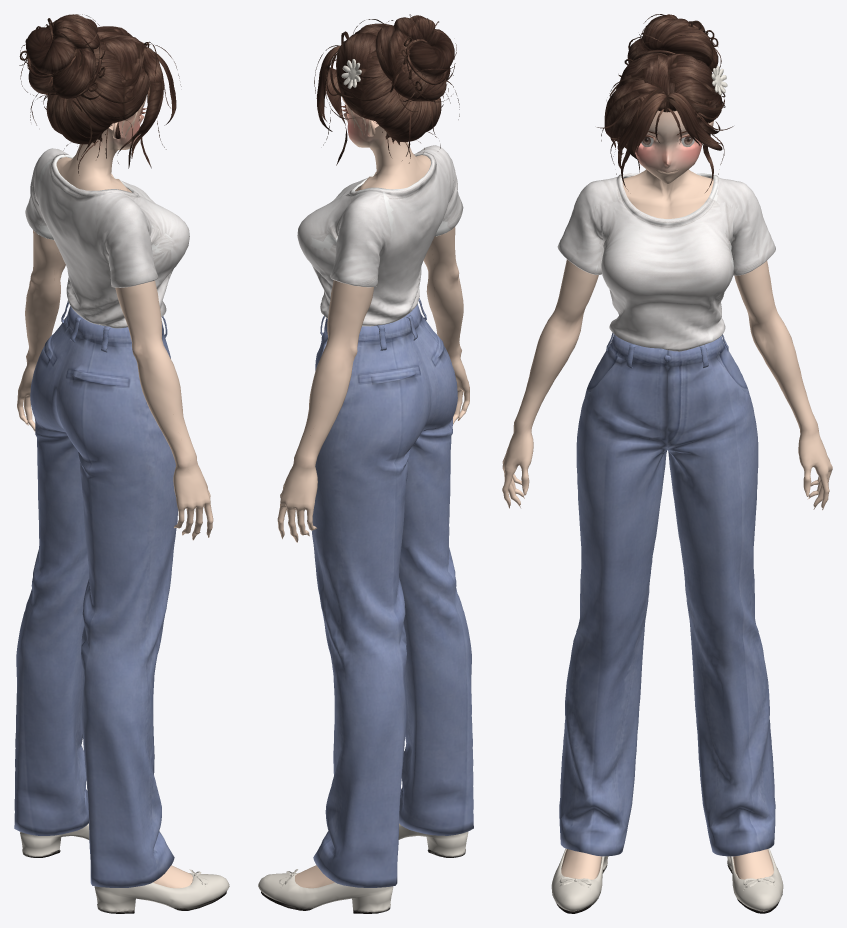
3 renders of one model, left to right at view 1: azimuth 30°, elevation 25°; view 2: azimuth 150°, elevation 25°; view 3: azimuth 270°, elevation 25°, orthographic. The views are drawn at different scales.
Parts seen in each view (by area): view 1: 06_整个下半身_含鞋, 03_上身_含袖子, 01_头发, 05_右臂_含手, 04_左臂_含手, 02_头_含脖子; view 2: 06_整个下半身_含鞋, 03_上身_含袖子, 01_头发, 04_左臂_含手, 05_右臂_含手, 02_头_含脖子; view 3: 06_整个下半身_含鞋, 03_上身_含袖子, 01_头发, 04_左臂_含手, 05_右臂_含手, 02_头_含脖子.
Boxes of the visible parts, bbox=[...] form: 06_整个下半身_含鞋: bbox=[14, 301, 229, 913]; 03_上身_含袖子: bbox=[25, 148, 189, 328]; 01_头发: bbox=[19, 14, 181, 173]; 05_右臂_含手: bbox=[115, 280, 213, 540]; 04_左臂_含手: bbox=[17, 230, 65, 431]; 02_头_含脖子: bbox=[56, 96, 146, 192]; 06_整个下半身_含鞋: bbox=[258, 298, 473, 913]; 03_上身_含袖子: bbox=[297, 145, 463, 326]; 01_头发: bbox=[314, 14, 459, 165]; 04_左臂_含手: bbox=[277, 280, 373, 542]; 05_右臂_含手: bbox=[423, 227, 469, 424]; 02_头_含脖子: bbox=[341, 96, 430, 191]; 06_整个下半身_含鞋: bbox=[551, 332, 783, 913]; 03_上身_含袖子: bbox=[557, 173, 775, 351]; 01_头发: bbox=[597, 14, 733, 192]; 04_左臂_含手: bbox=[734, 261, 832, 510]; 05_右臂_含手: bbox=[502, 259, 598, 508]; 02_头_含脖子: bbox=[622, 110, 713, 218].
Size of the model in its own units: 17.92 by 99.95 by 35.3.
6 materials, 6 textured.
